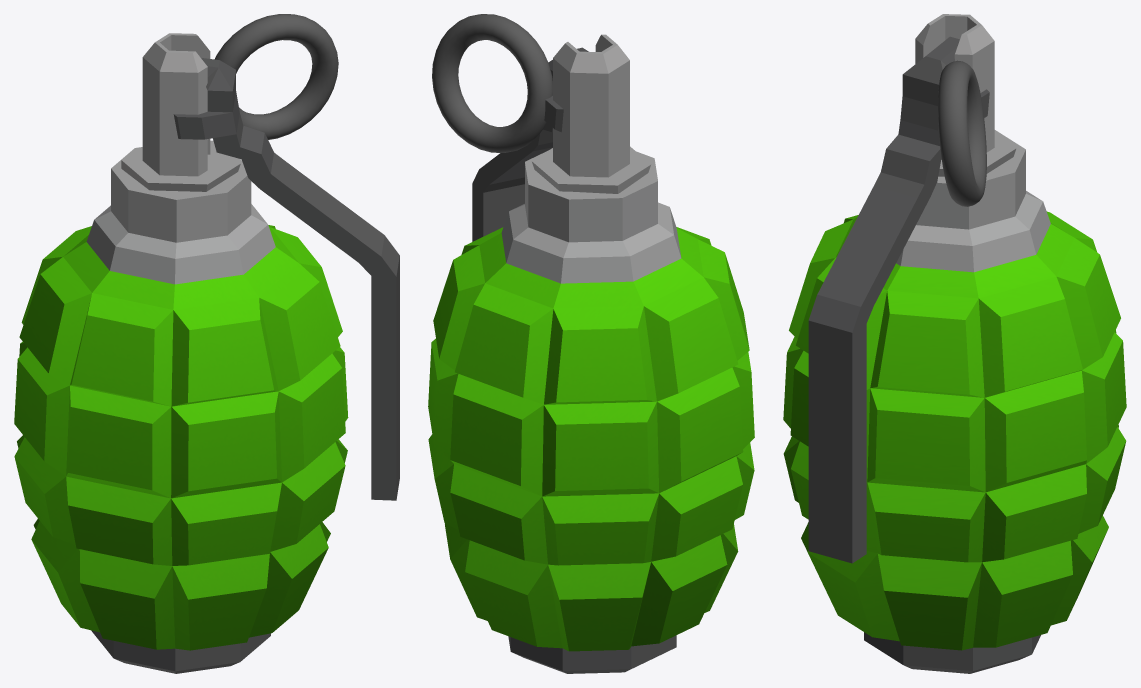
Rendered from SM_Grenade.fbx.
3 renders of one model, left to right at view 1: azimuth 30°, elevation 25°; view 2: azimuth 150°, elevation 25°; view 3: azimuth 270°, elevation 25°, orthographic. The views are drawn at different scales.
Parts seen in each view (by area): view 1: Grenade; view 2: Grenade; view 3: Grenade.
Boxes of the visible parts, left/top/right/bottom form: Grenade: left=14, top=14, right=399, bottom=673; Grenade: left=428, top=14, right=754, bottom=673; Grenade: left=783, top=14, right=1126, bottom=673.
Bounding box in the file's own units: 18.9 × 34.8 × 17.42.
